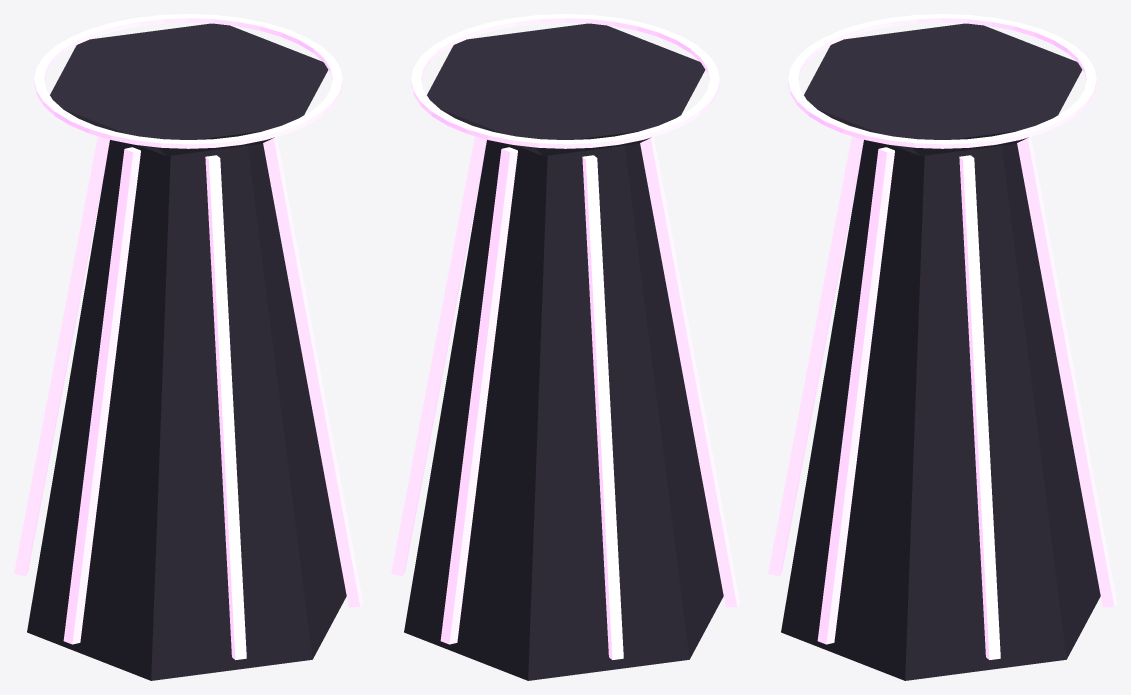
Rendered from black_market_relay.glb.
The picture shows the model from 3 angles, left to right: view 1: azimuth 30°, elevation 25°; view 2: azimuth 150°, elevation 25°; view 3: azimuth 270°, elevation 25°; orthographic projection.
Parts seen in each view (by area): view 1: Pedestal, PedestalLight; view 2: Pedestal, PedestalLight; view 3: Pedestal, PedestalLight.
Boxes of the visible parts, bbox=[...] form: Pedestal: bbox=[27, 23, 346, 680]; PedestalLight: bbox=[14, 14, 362, 659]; Pedestal: bbox=[404, 23, 723, 680]; PedestalLight: bbox=[391, 14, 739, 659]; Pedestal: bbox=[781, 23, 1100, 680]; PedestalLight: bbox=[768, 14, 1116, 659].
Size of the model in its own units: 0.6887 by 1.18 by 0.7013.
